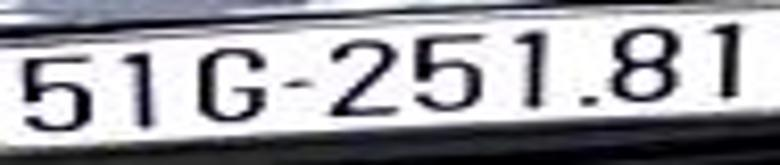-: (284, 81, 312, 89)
.: (581, 95, 599, 106)
1: (515, 31, 546, 110), (126, 53, 154, 127), (715, 23, 740, 98)
2: (329, 39, 397, 116)
5: (24, 55, 92, 133), (416, 35, 484, 109)
8: (612, 28, 677, 102)
G: (196, 45, 265, 122)
